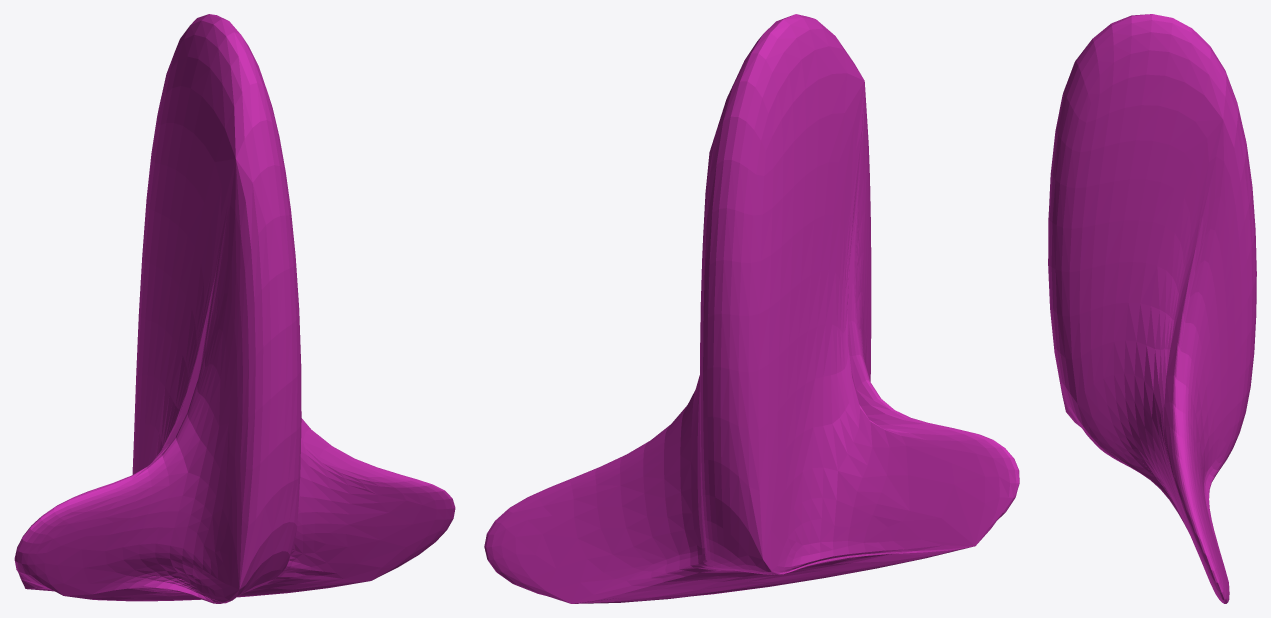
3 renders of one model, left to right at view 1: azimuth 30°, elevation 25°; view 2: azimuth 150°, elevation 25°; view 3: azimuth 270°, elevation 25°, orthographic. The views are drawn at different scales.
Parts seen in each view (by area): view 1: 400_Cube.1622; view 2: 400_Cube.1622; view 3: 400_Cube.1622.
Boxes of the visible parts, bbox=[...] form: 400_Cube.1622: bbox=[14, 14, 455, 603]; 400_Cube.1622: bbox=[484, 14, 1019, 603]; 400_Cube.1622: bbox=[1048, 14, 1256, 603].
Bounding box in the file's own units: 10.55 × 12.71 × 4.79.
